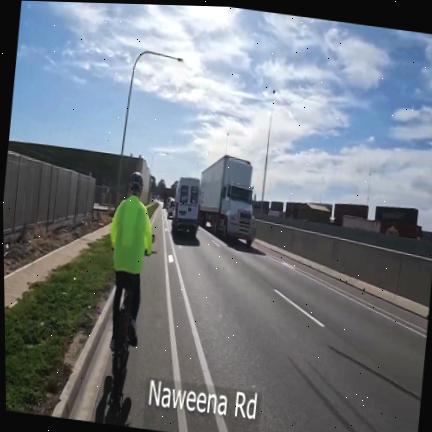Bike_Lane: (68, 207, 179, 432)
